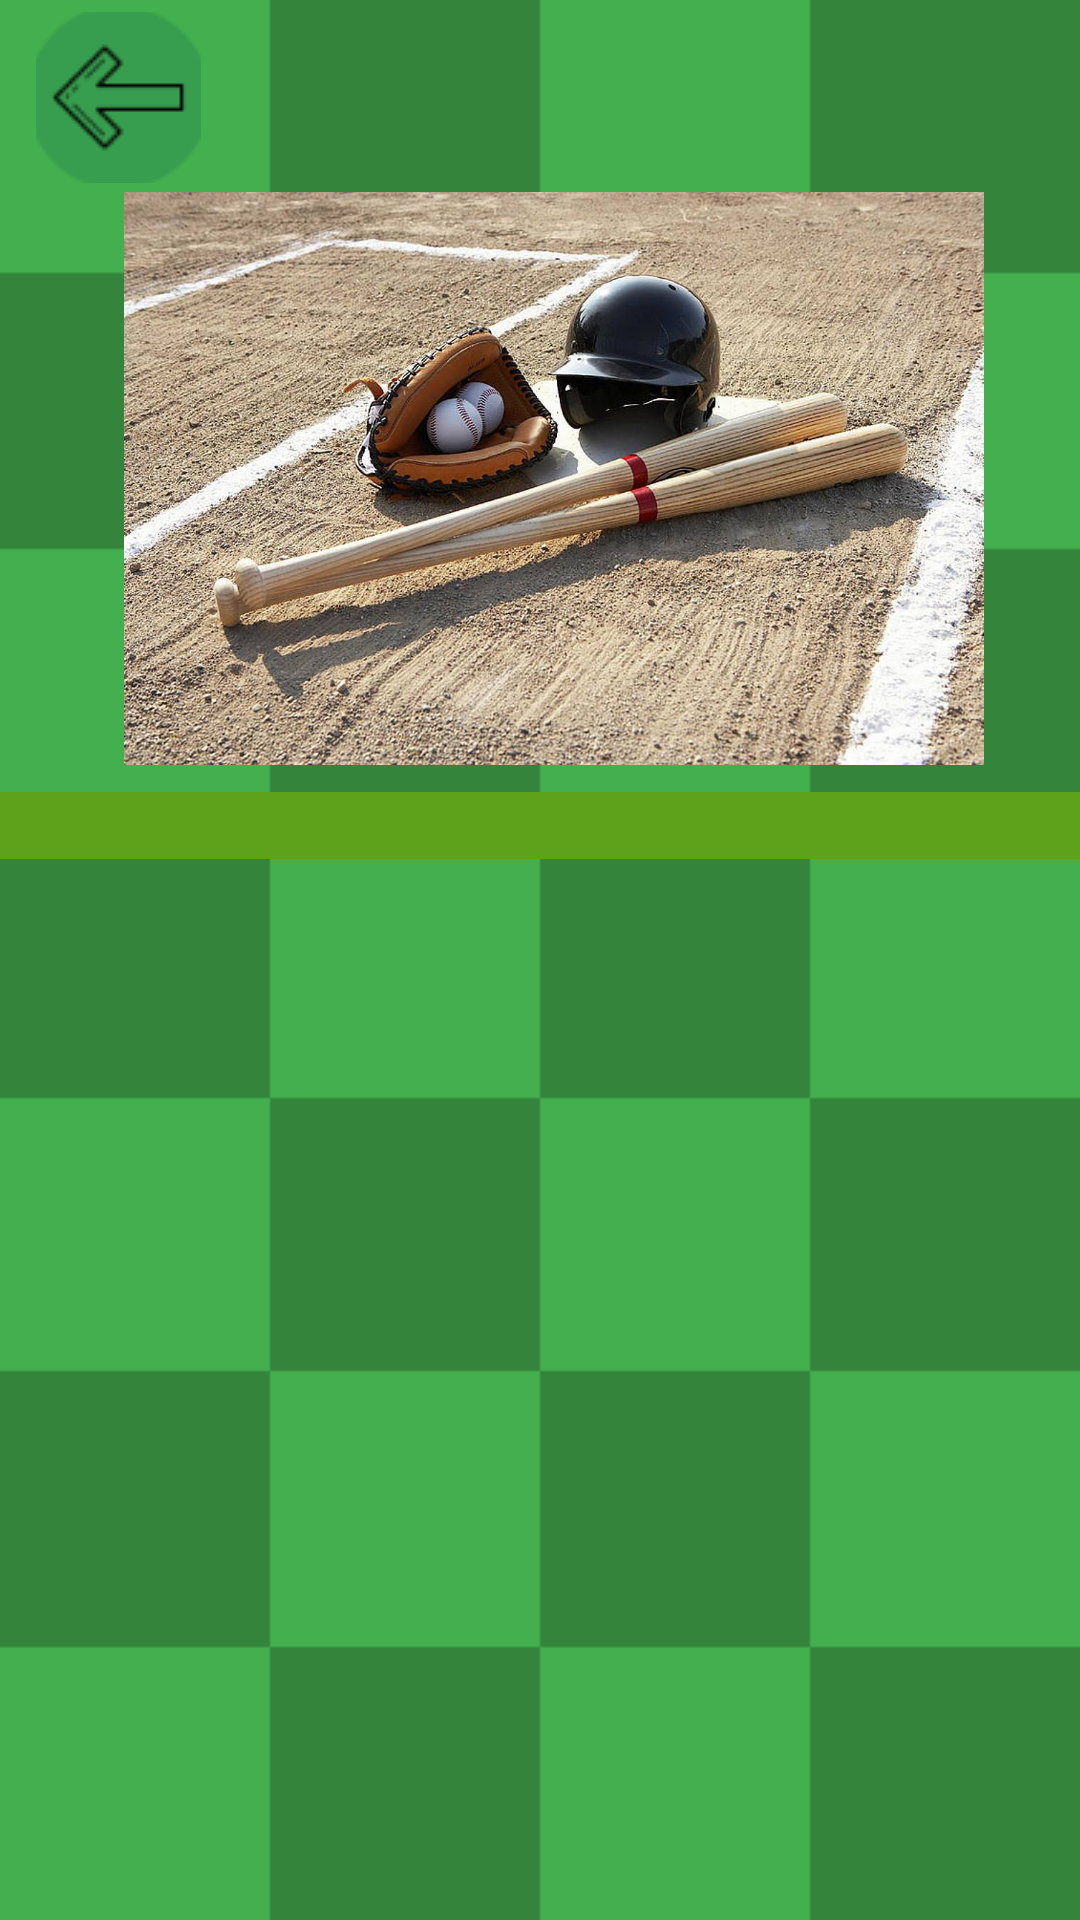

Named icons in this screenshot (1080x1920) and their bounding boxes, (x1, y1, x2, y2):
strelka: (36, 12, 201, 183)
